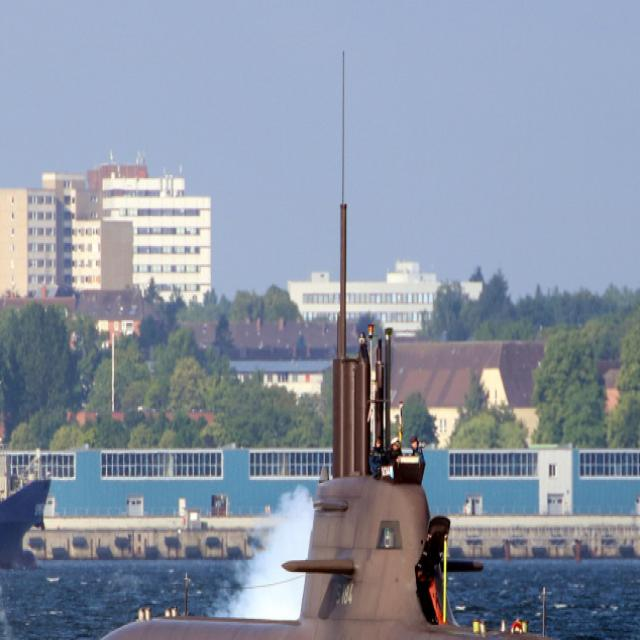submarine: (42, 14, 640, 640)
